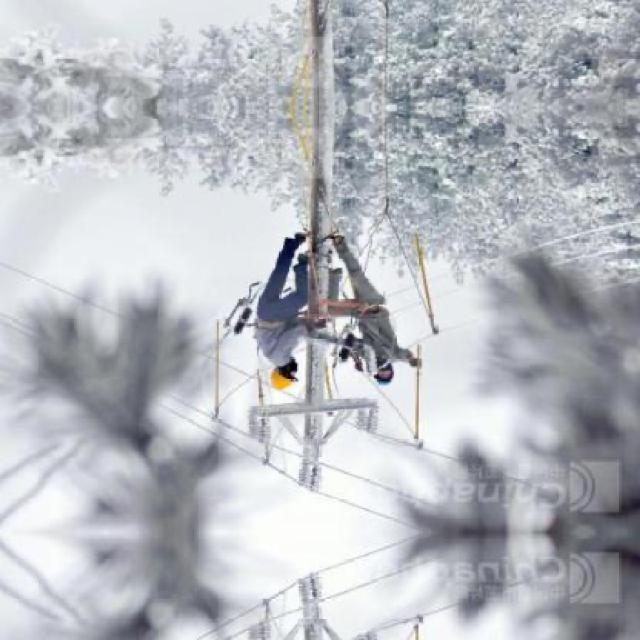con casco: (246, 342, 320, 404), (368, 348, 422, 399)
